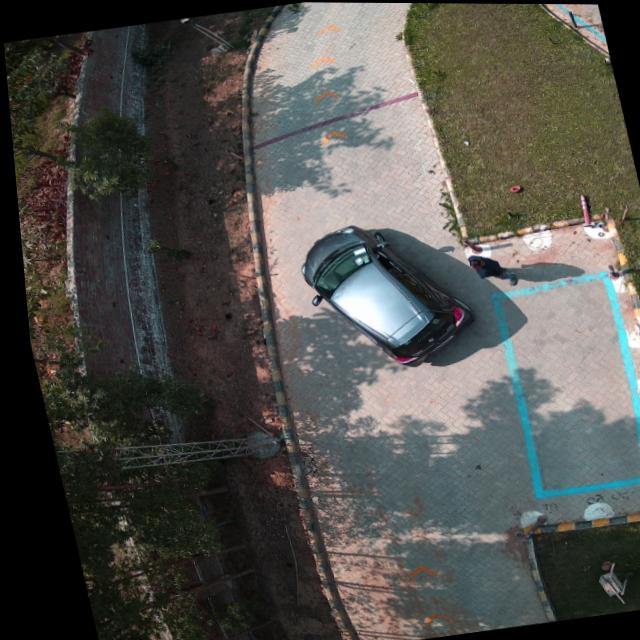car: (297, 224, 467, 366)
